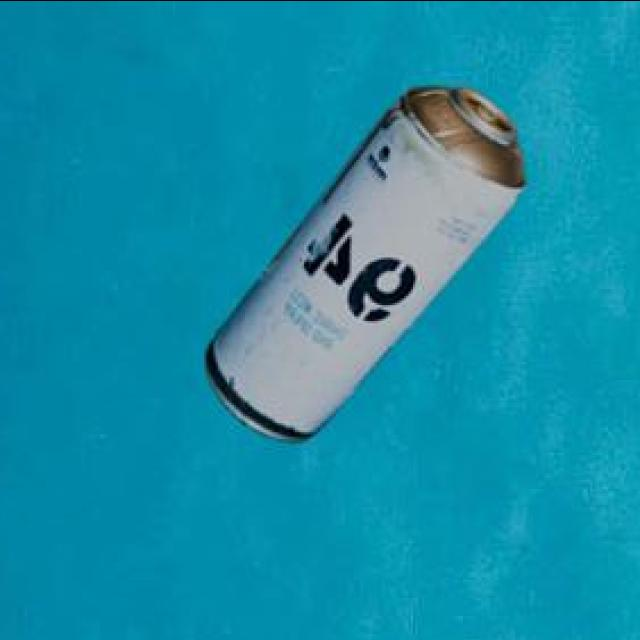logam: (203, 83, 523, 437)
